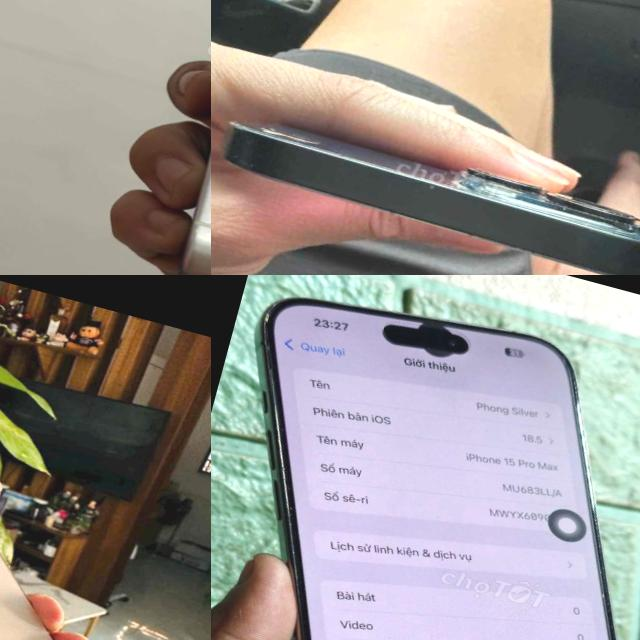scratch: (250, 116, 328, 152), (218, 146, 262, 177), (415, 174, 443, 192)
screen_defect: (369, 302, 475, 380)
